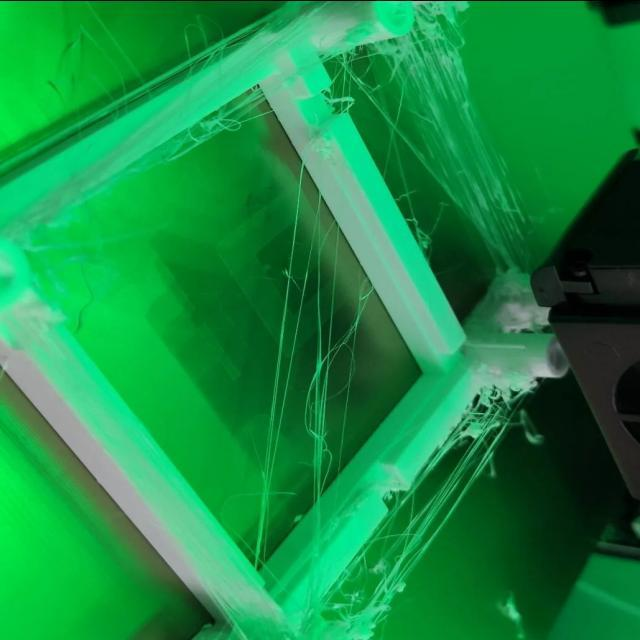Stringing: (331, 374, 540, 635), (359, 2, 551, 261), (249, 185, 318, 545), (297, 181, 344, 626), (148, 80, 285, 166)
